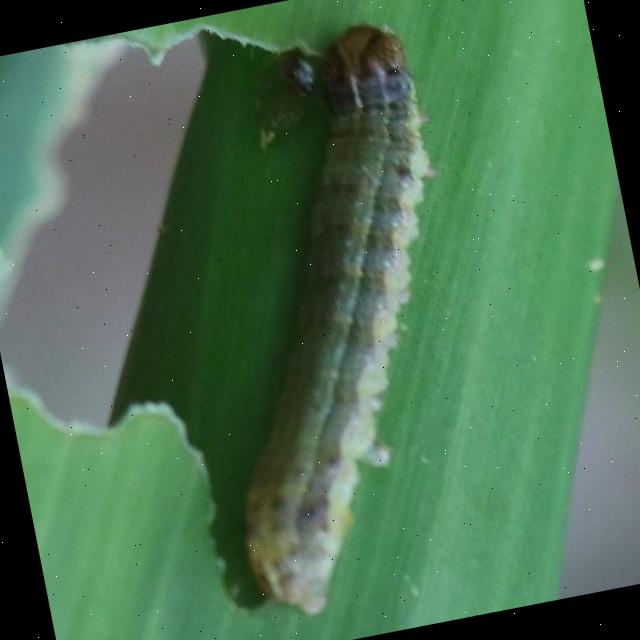worm: (150, 17, 519, 630)
